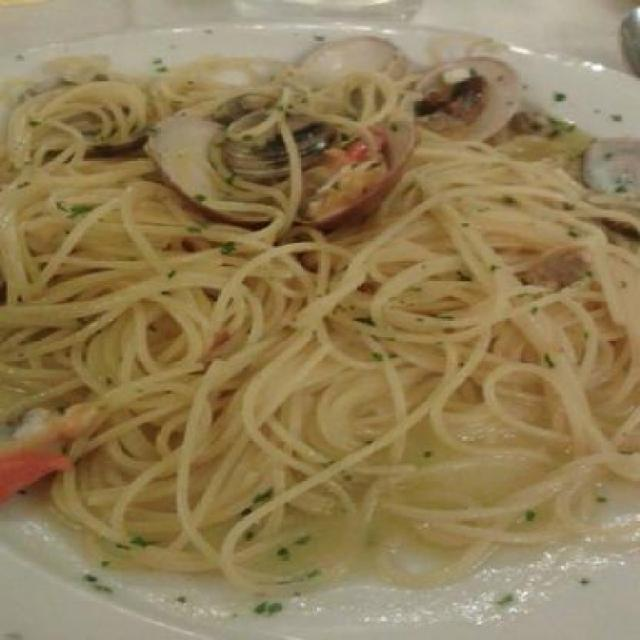Oil pasta: (12, 29, 630, 608)
